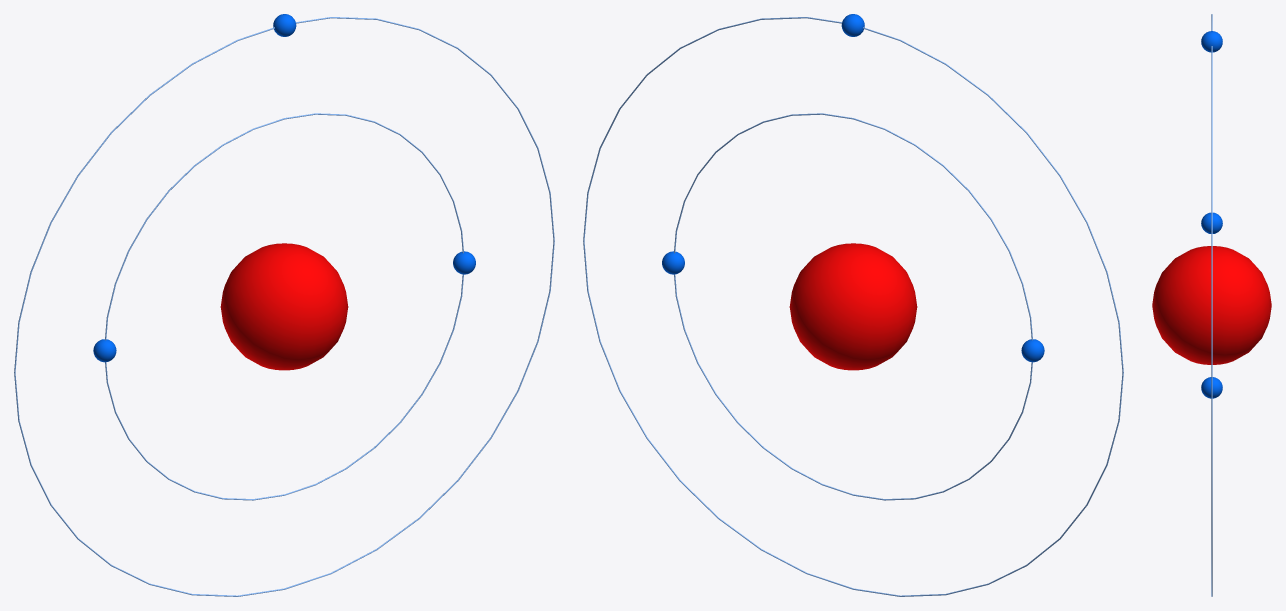
The picture shows the model from 3 angles, left to right: view 1: azimuth 30°, elevation 25°; view 2: azimuth 150°, elevation 25°; view 3: azimuth 270°, elevation 25°; orthographic projection. The views are drawn at different scales.
Parts seen in each view (by area): view 1: 구, 도넛_1, 도넛; view 2: 구, 도넛_1, 도넛; view 3: 구, 도넛_1, 구_1, 구_1_1, 구_1_2.
Part boxes in pixels (bbox=[...]): 구: bbox=[220, 243, 348, 370]; 도넛_1: bbox=[14, 17, 554, 596]; 도넛: bbox=[105, 113, 463, 500]; 구: bbox=[789, 243, 917, 370]; 도넛_1: bbox=[583, 17, 1123, 596]; 도넛: bbox=[674, 113, 1032, 500]; 구: bbox=[1152, 246, 1271, 364]; 도넛_1: bbox=[1211, 14, 1212, 596]; 구_1: bbox=[1201, 31, 1222, 52]; 구_1_1: bbox=[1201, 377, 1222, 398]; 구_1_2: bbox=[1201, 212, 1222, 233].
Size of the model in its own units: 241 by 244 by 49.18.
